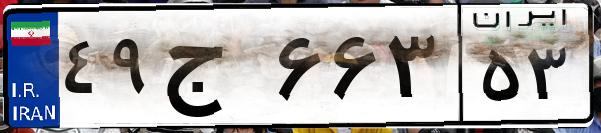3: (385, 28, 445, 110), (525, 38, 570, 115)
4: (57, 26, 110, 100)
5: (475, 38, 525, 113)
6: (270, 28, 330, 110), (330, 28, 385, 110)
9: (110, 28, 158, 98)
ج: (158, 20, 270, 120)
